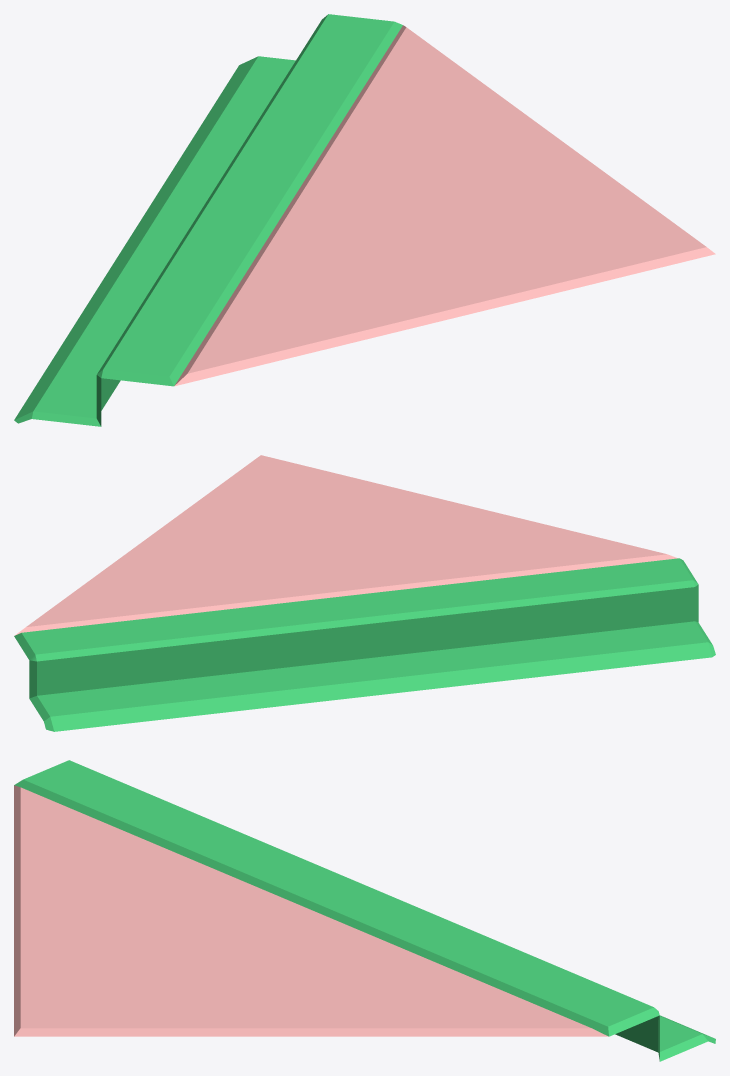
File: mesh_Paving_Straight45_v1.3.fbx
3 renders of one model, top to bottom at view 1: azimuth 30°, elevation 25°; view 2: azimuth 150°, elevation 25°; view 3: azimuth 270°, elevation 25°, orthographic. The views are drawn at different scales.
Parts seen in each view (by area): view 1: mesh_Paving_Straight45; view 2: mesh_Paving_Straight45; view 3: mesh_Paving_Straight45.
Boxes of the visible parts, x1,y1,x2,y2 form: mesh_Paving_Straight45: (14,14,715,426); mesh_Paving_Straight45: (14,455,715,731); mesh_Paving_Straight45: (14,760,715,1061).
Bounding box in the file's own units: 118 × 10.77 × 118.
